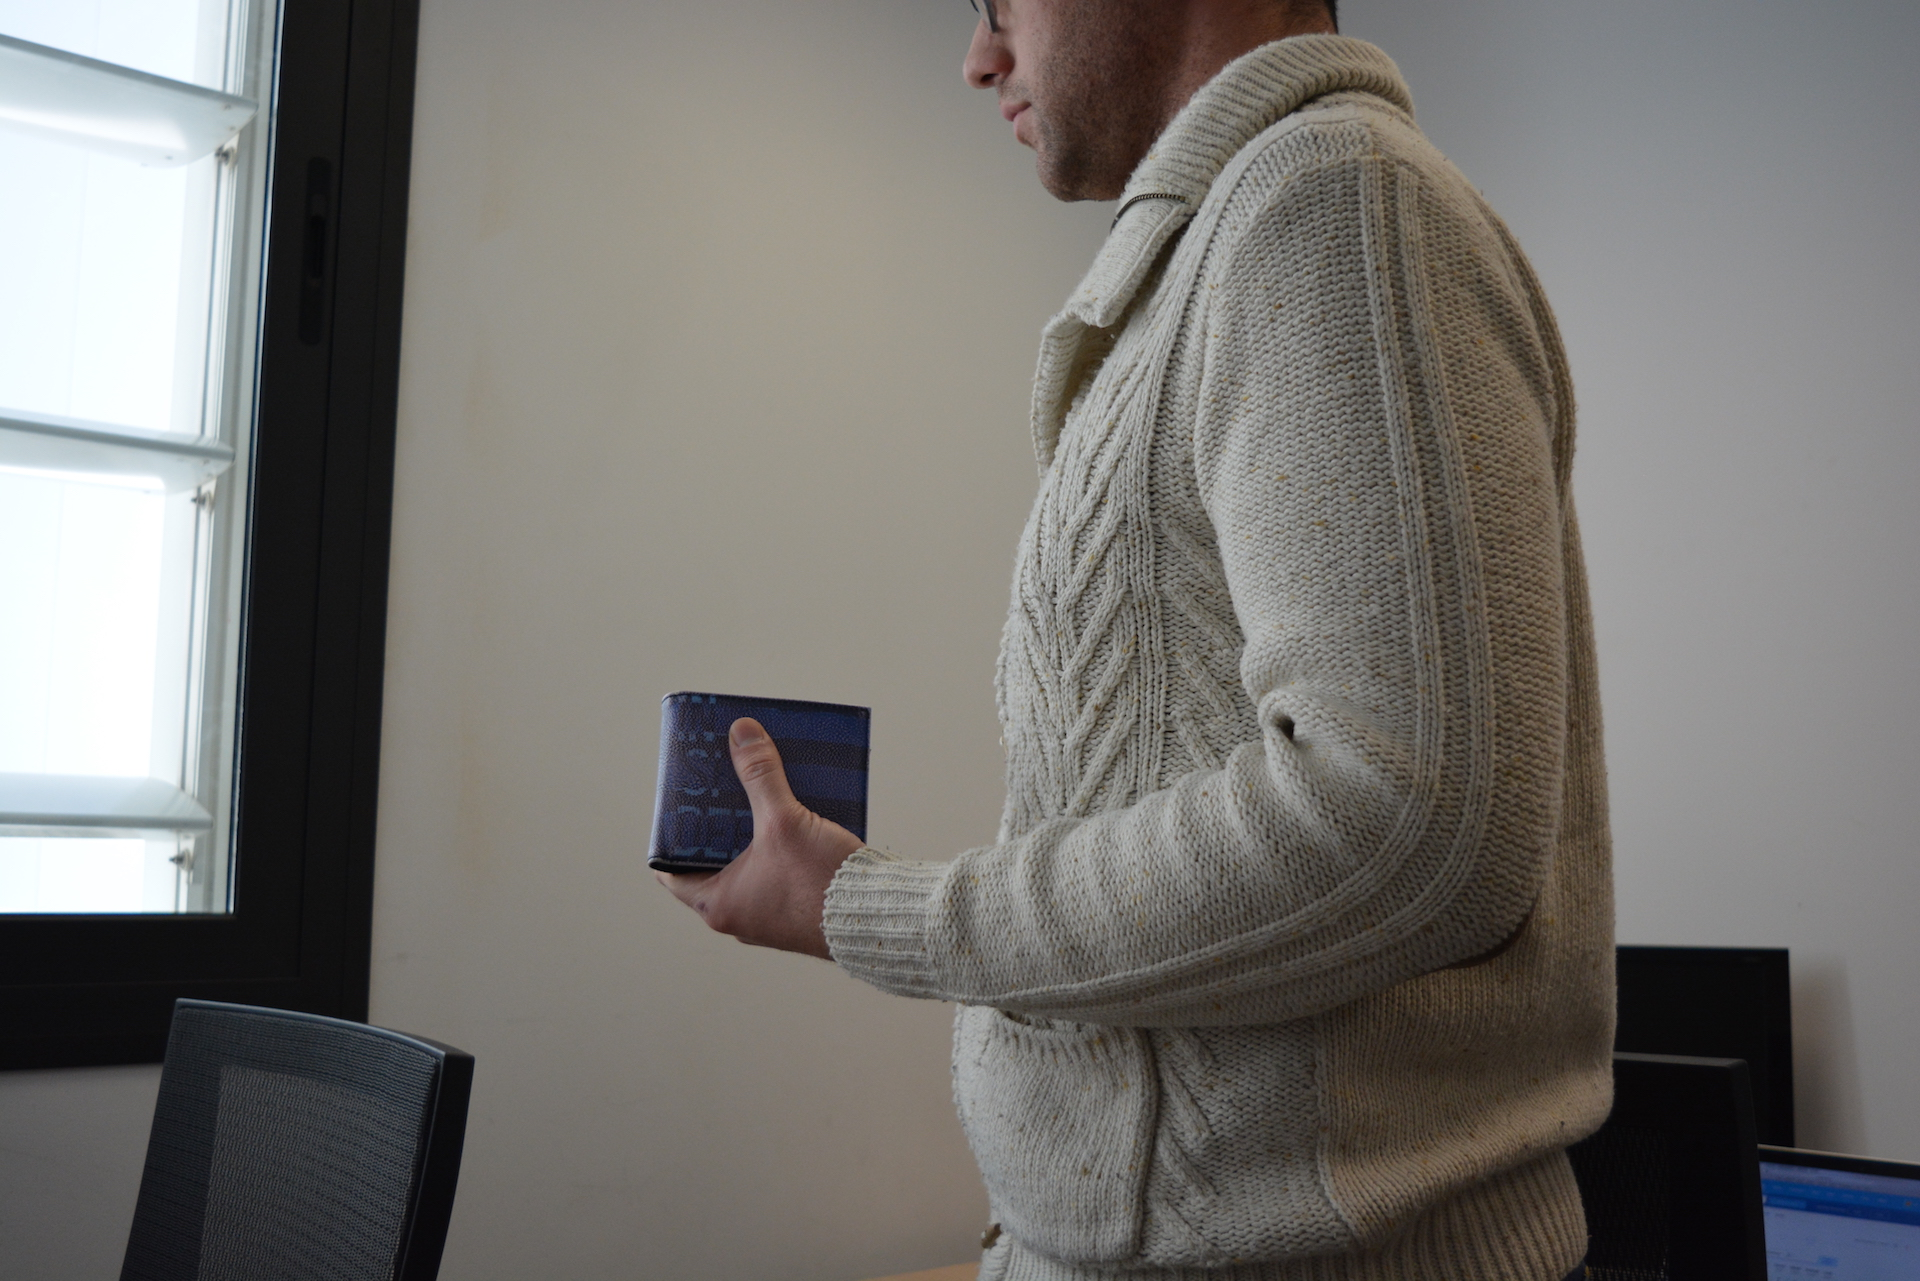monedero: (646, 688, 874, 881)
